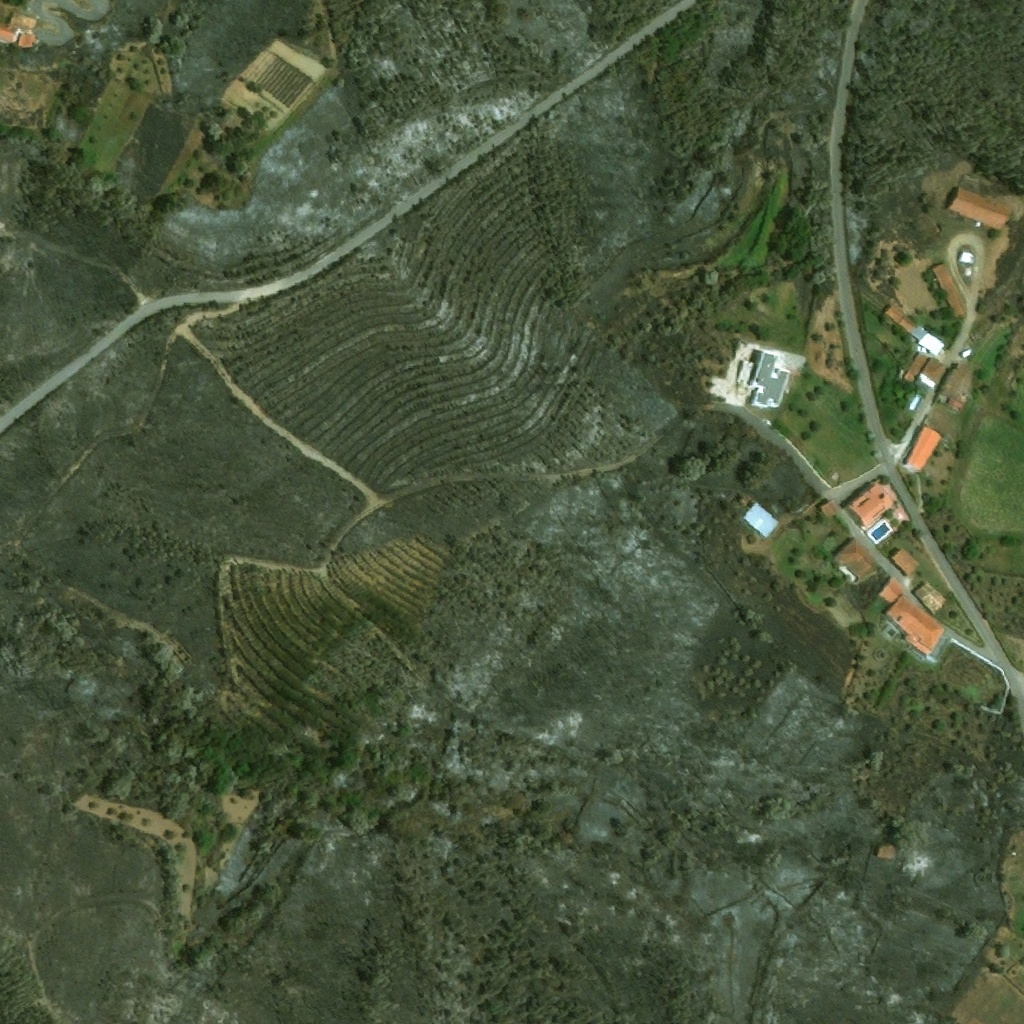0 no-damage: (886, 594, 946, 657), (948, 185, 1011, 230), (846, 480, 897, 530), (749, 351, 790, 409), (832, 537, 878, 584), (931, 262, 970, 317), (901, 423, 942, 473), (940, 357, 980, 403), (743, 499, 779, 538), (911, 581, 946, 614), (889, 546, 919, 576), (876, 576, 906, 605), (901, 351, 928, 383), (919, 330, 946, 355), (8, 8, 37, 31), (922, 357, 947, 382), (898, 313, 921, 335), (735, 360, 753, 387), (885, 303, 907, 324), (819, 499, 839, 519), (0, 22, 17, 45), (946, 395, 965, 410), (912, 325, 929, 341), (919, 372, 936, 388), (17, 33, 34, 48)
1 minor-damage: (738, 494, 753, 510)
